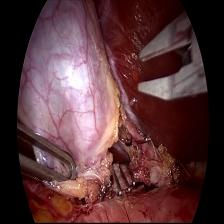Clipper: (136, 10, 209, 112)
Grasper: (13, 118, 81, 188)
